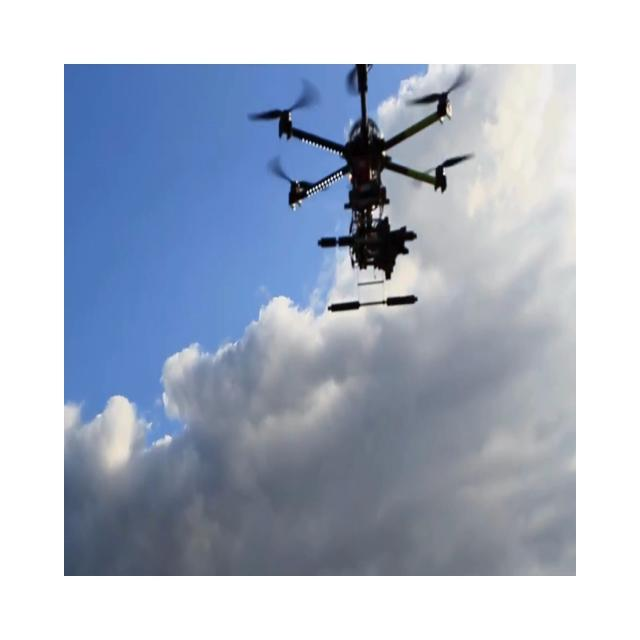drone: (247, 63, 475, 312)
